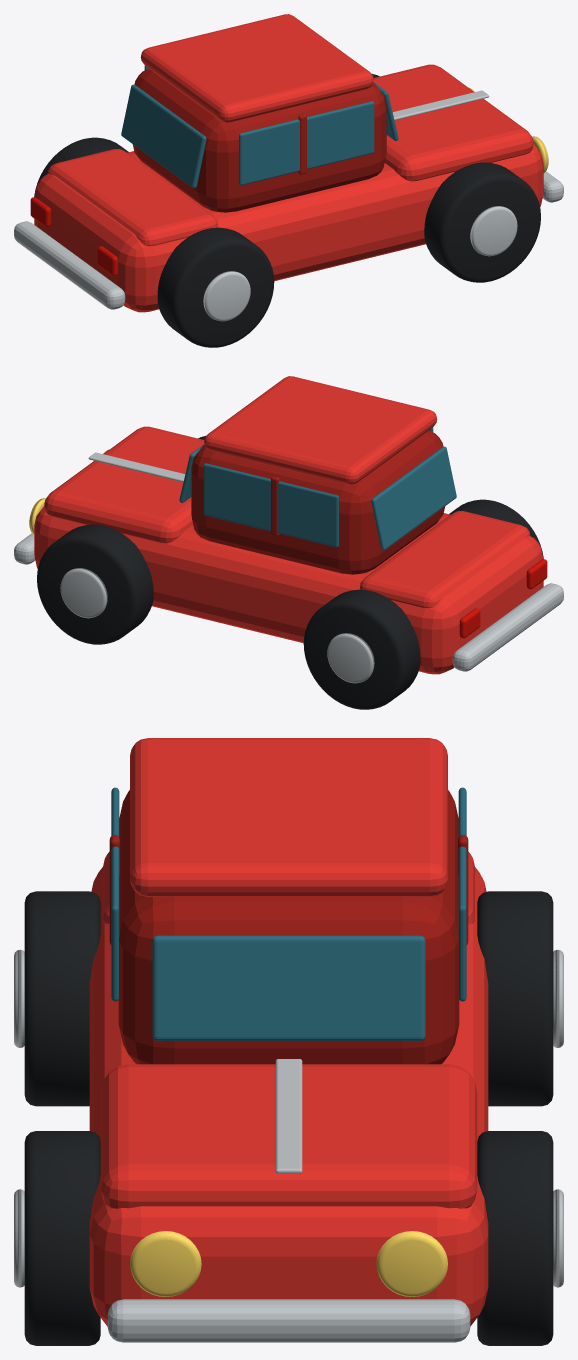
The model's file is toy-car.glb.
3 views of the same model, one above another, from view 1: azimuth 30°, elevation 25°; view 2: azimuth 150°, elevation 25°; view 3: azimuth 270°, elevation 25° (orthographic). The views are drawn at different scales.
Parts seen in each view (by area): view 1: ToyCar_Body, ToyCar_Roof, ToyCar_Cabin, ToyCar_Hood, ToyCar_FrontLeftWheel, ToyCar_RearLeftWheel, ToyCar_Trunk, ToyCar_LeftWindow, ToyCar_RearWindow, ToyCar_RearBumper, ToyCar_FrontLeftHub, ToyCar_RearLeftHub (+7 smaller); view 2: ToyCar_Body, ToyCar_Roof, ToyCar_Cabin, ToyCar_Hood, ToyCar_FrontRightWheel, ToyCar_RearRightWheel, ToyCar_Trunk, ToyCar_RightWindow, ToyCar_RearWindow, ToyCar_RearBumper, ToyCar_FrontRightHub, ToyCar_RearRightHub (+7 smaller); view 3: ToyCar_Hood, ToyCar_Roof, ToyCar_Body, ToyCar_Cabin, ToyCar_FrontWindow, ToyCar_FrontBumper, ToyCar_FrontLeftWheel, ToyCar_FrontRightWheel, ToyCar_RearLeftWheel, ToyCar_RearRightWheel, ToyCar_LeftHeadlight, ToyCar_RightHeadlight (+8 smaller).
Part boxes in pixels (bbox=[...]): ToyCar_Body: bbox=[34, 144, 543, 312]; ToyCar_Roof: bbox=[140, 14, 373, 122]; ToyCar_Cabin: bbox=[132, 68, 386, 212]; ToyCar_Hood: bbox=[373, 64, 533, 181]; ToyCar_FrontLeftWheel: bbox=[424, 162, 540, 282]; ToyCar_RearLeftWheel: bbox=[157, 227, 274, 347]; ToyCar_Trunk: bbox=[47, 149, 217, 246]; ToyCar_LeftWindow: bbox=[239, 101, 374, 185]; ToyCar_RearWindow: bbox=[121, 84, 206, 188]; ToyCar_RearBumper: bbox=[14, 221, 125, 309]; ToyCar_FrontLeftHub: bbox=[470, 206, 517, 256]; ToyCar_RearLeftHub: bbox=[203, 271, 250, 321]; ToyCar_Body: bbox=[34, 506, 543, 674]; ToyCar_Roof: bbox=[204, 376, 437, 484]; ToyCar_Cabin: bbox=[191, 430, 445, 574]; ToyCar_Hood: bbox=[44, 426, 204, 543]; ToyCar_FrontRightWheel: bbox=[37, 524, 153, 644]; ToyCar_RearRightWheel: bbox=[303, 589, 420, 709]; ToyCar_Trunk: bbox=[360, 511, 530, 608]; ToyCar_RightWindow: bbox=[203, 463, 338, 547]; ToyCar_RearWindow: bbox=[371, 446, 456, 550]; ToyCar_RearBumper: bbox=[452, 583, 563, 671]; ToyCar_FrontRightHub: bbox=[60, 568, 107, 618]; ToyCar_RearRightHub: bbox=[327, 633, 374, 683]; ToyCar_Hood: bbox=[100, 1064, 477, 1208]; ToyCar_Roof: bbox=[130, 738, 447, 896]; ToyCar_Body: bbox=[89, 867, 488, 1326]; ToyCar_Cabin: bbox=[118, 790, 459, 1064]; ToyCar_FrontWindow: bbox=[152, 935, 425, 1040]; ToyCar_FrontBumper: bbox=[107, 1299, 470, 1342]; ToyCar_FrontLeftWheel: bbox=[24, 1131, 100, 1345]; ToyCar_FrontRightWheel: bbox=[477, 1131, 553, 1345]; ToyCar_RearLeftWheel: bbox=[24, 891, 100, 1106]; ToyCar_RearRightWheel: bbox=[477, 891, 553, 1106]; ToyCar_LeftHeadlight: bbox=[130, 1231, 201, 1296]; ToyCar_RightHeadlight: bbox=[376, 1231, 447, 1296].
Size of the model in its own units: 4.34 by 1.91 by 2.46.
